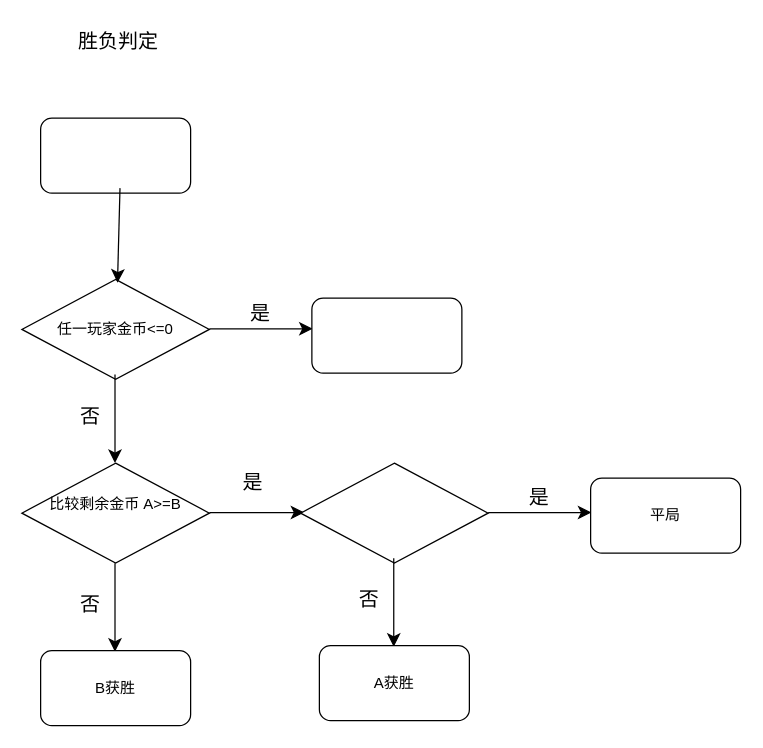
The diagram is 763 pixels wide and 748 high, and some of its shapes have lost their labels. Here are the shapes that lost their labels. From the top down, the centre of each, then its label:
pixel 115 155: 第七轮结算完
pixel 386 335: 对手获胜
pixel 393 512: A=B
